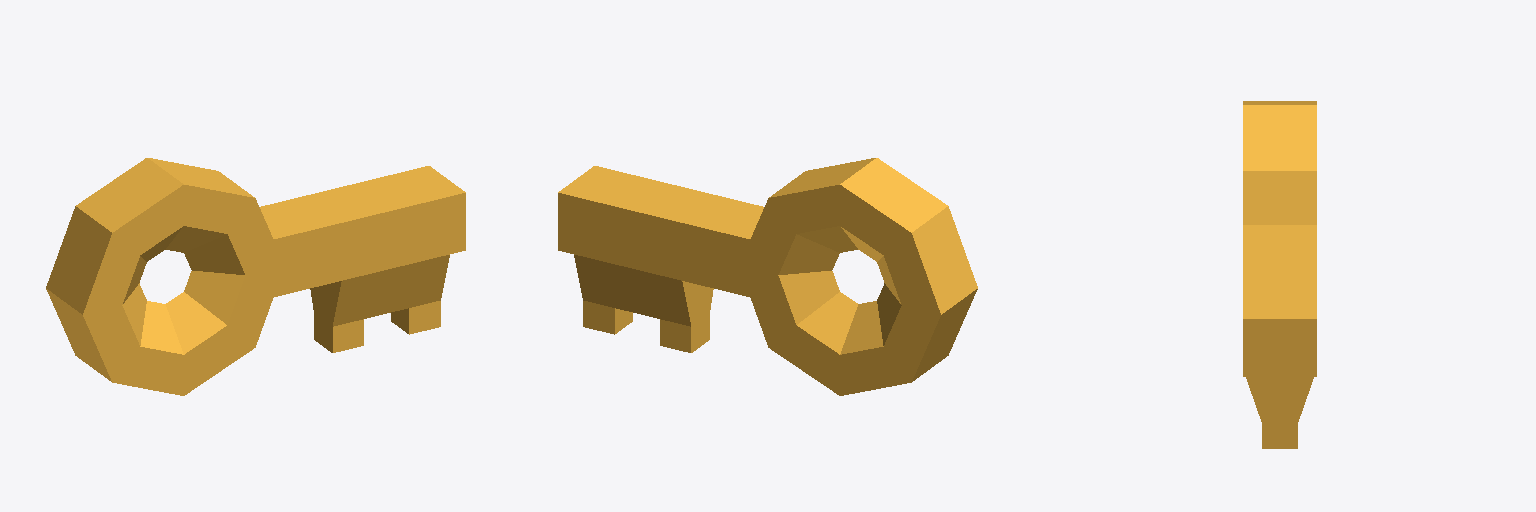
The model's file is key.obj.
3 renders of one model, left to right at view 1: azimuth 30°, elevation 25°; view 2: azimuth 150°, elevation 25°; view 3: azimuth 270°, elevation 25°, orthographic.
Visible parts, largest first — view 1: key; view 2: key; view 3: key.
Boxes of the visible parts, x1,y1,x2,y2 form: key: [46, 158, 465, 395]; key: [558, 158, 977, 395]; key: [1243, 101, 1316, 448].
Size of the model in its own units: 0.4067 by 0.2172 by 0.0679.